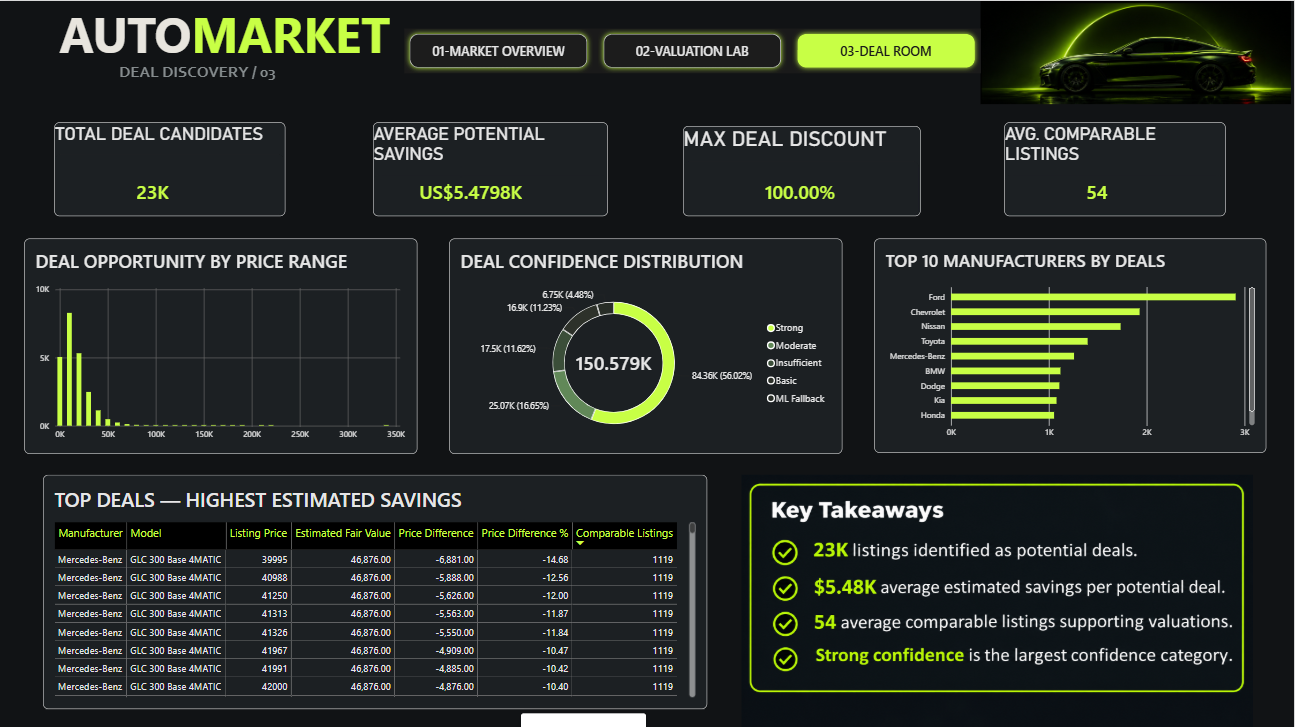

The page's visual inventory and layout, read from the dashboard file:
{"tool":"powerbi","page":{"name":"03-DEAL ROOM","canvas":[1920,1080],"ordinal":2},"visuals":[{"type":"textbox","box":[10.9,0,830.9,152.7],"z":0},{"type":"textbox","box":[180,89.1,436.4,280],"z":1000},{"type":"image","box":[1449.1,0,470.9,152.7],"z":2000},{"type":"cardVisual","title":"       TOTAL DEAL    CANDIDATES","fields":{"Data":["fair_price_results.Potential Deals"]},"box":[83.3,179.6,342.6,138.9],"z":3000},{"type":"cardVisual","title":"AVERAGE POTENTIAL SAVINGS","fields":{"Data":["fair_price_results.Average Potential Savings"]},"box":[555.6,179.6,348.1,138.9],"z":4000},{"type":"cardVisual","title":"MAX DEAL DISCOUNT","fields":{"Data":["fair_price_results.Best Deal Discount %"]},"box":[1014.8,185.2,351.9,133.3],"z":5000},{"type":"cardVisual","title":"AVG. COMPARABLE LISTINGS","fields":{"Data":["fair_price_results.Average Comparable Listings"]},"box":[1490.7,179.6,327.8,138.9],"z":6000},{"type":"clusteredColumnChart","title":"DEAL OPPORTUNITY BY PRICE RANGE","fields":{"Category":["fair_price_results.Price range"],"Y":["fair_price_results.Potential Deals"]},"box":[38.4,352.3,582.6,319.2],"z":7000},{"type":"donutChart","title":"DEAL CONFIDENCE DISTRIBUTION","fields":{"Category":["fair_price_results.deal_confidence"],"Y":["CountNonNull(fair_price_results.deal_confidence)"]},"box":[668,352.3,582.6,319.2],"z":8000},{"type":"clusteredBarChart","title":"TOP 10 MANUFACTURERS BY DEALS","fields":{"Category":["fair_price_results.manufacturer"],"Y":["fair_price_results.Potential Deals"]},"box":[1297.7,352.3,580.8,317.4],"z":9000},{"type":"tableEx","title":"TOP DEALS — HIGHEST ESTIMATED SAVINGS","fields":{"Values":["fair_price_results.manufacturer","fair_price_results.model_group","fair_price_results.actual_price","fair_price_results.final_fair_price","fair_price_results.price_difference","fair_price_results.price_difference_pct","fair_price_results.comparable_count"]},"box":[66.3,701.2,983.7,347.1],"z":10000},{"type":"image","box":[1041.3,701.2,879.1,378.5],"z":11000},{"type":"pageNavigator","box":[601.7,40.1,854.7,66.3],"z":11001}]}

Visuals, with their boxes in screenshot pixels (x1, y1, x2, y2), scaled from the page's 1920x1080 canvas onto the 1295x727 screenshot:
textbox: {"x1": 7, "y1": 0, "x2": 568, "y2": 103}
textbox: {"x1": 121, "y1": 60, "x2": 416, "y2": 248}
image: {"x1": 977, "y1": 0, "x2": 1294, "y2": 103}
"       TOTAL DEAL    CANDIDATES" cardVisual: {"x1": 56, "y1": 121, "x2": 287, "y2": 214}
"AVERAGE POTENTIAL SAVINGS" cardVisual: {"x1": 375, "y1": 121, "x2": 610, "y2": 214}
"MAX DEAL DISCOUNT" cardVisual: {"x1": 684, "y1": 125, "x2": 922, "y2": 214}
"AVG. COMPARABLE LISTINGS" cardVisual: {"x1": 1005, "y1": 121, "x2": 1227, "y2": 214}
"DEAL OPPORTUNITY BY PRICE RANGE" clusteredColumnChart: {"x1": 26, "y1": 237, "x2": 419, "y2": 452}
"DEAL CONFIDENCE DISTRIBUTION" donutChart: {"x1": 451, "y1": 237, "x2": 844, "y2": 452}
"TOP 10 MANUFACTURERS BY DEALS" clusteredBarChart: {"x1": 875, "y1": 237, "x2": 1267, "y2": 451}
"TOP DEALS — HIGHEST ESTIMATED SAVINGS" tableEx: {"x1": 45, "y1": 472, "x2": 708, "y2": 706}
image: {"x1": 702, "y1": 472, "x2": 1294, "y2": 726}
pageNavigator: {"x1": 406, "y1": 27, "x2": 982, "y2": 72}
